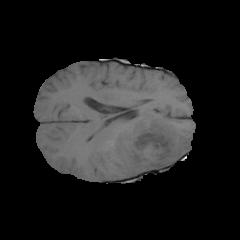glioma: (113, 112, 192, 173)
